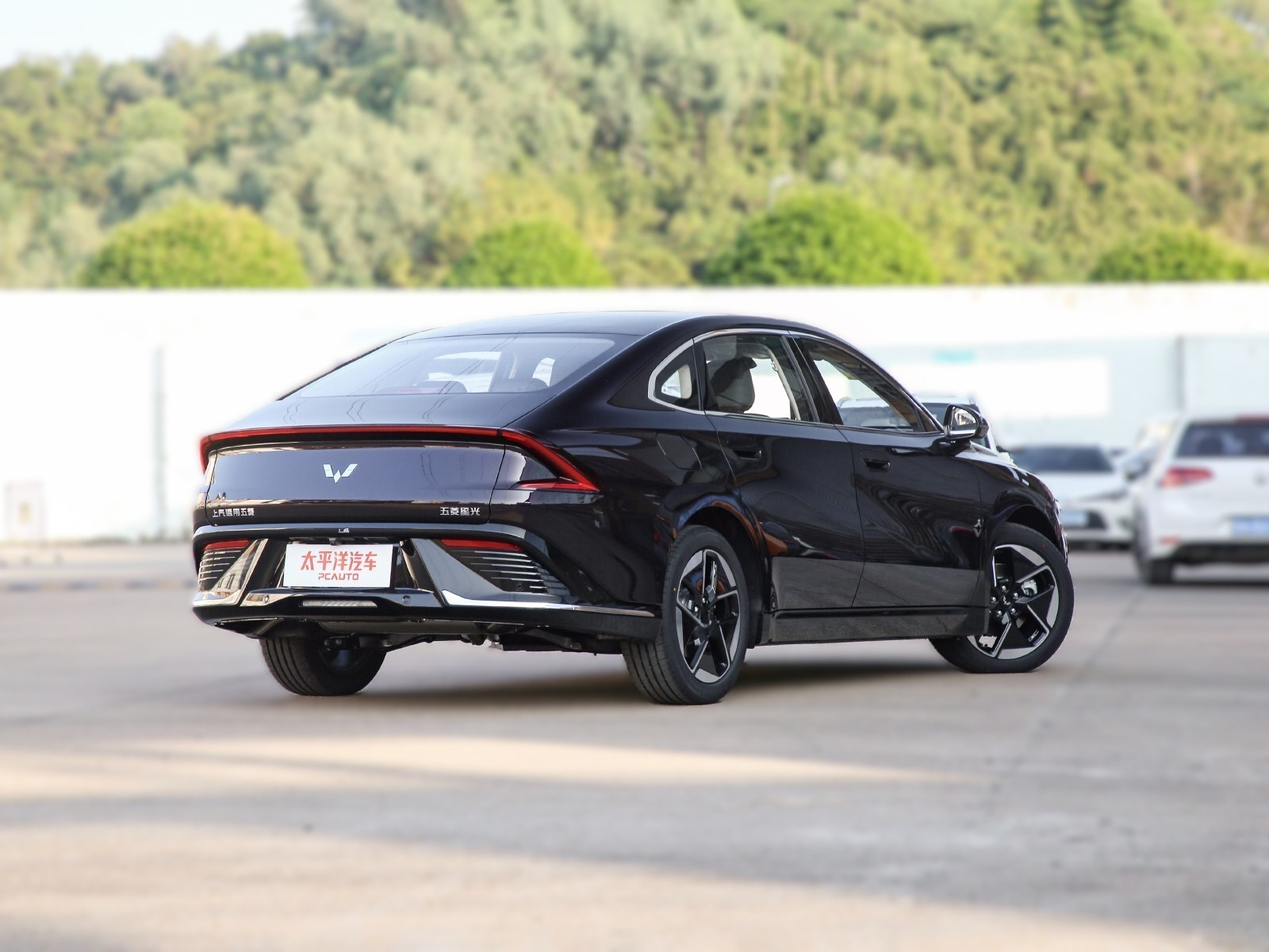SGMW: (324, 464, 357, 483)
